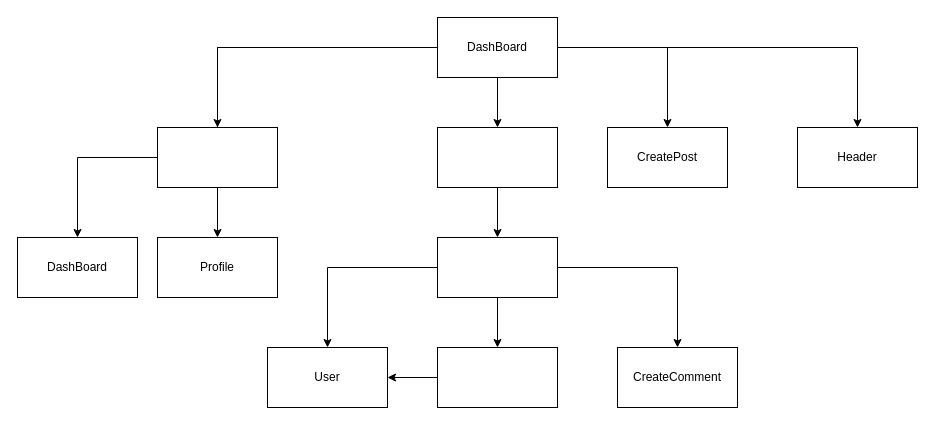
Image size: 935x425. Some labels were removed from this diagram. The shapes that lost their labels are listed below. From the top down, each one's centre as x and y in pixels, then its label:
At pixel 217 157: "Sidebar".
At pixel 497 157: "Posts".
At pixel 497 267: "Post".
At pixel 497 377: "Comment".
